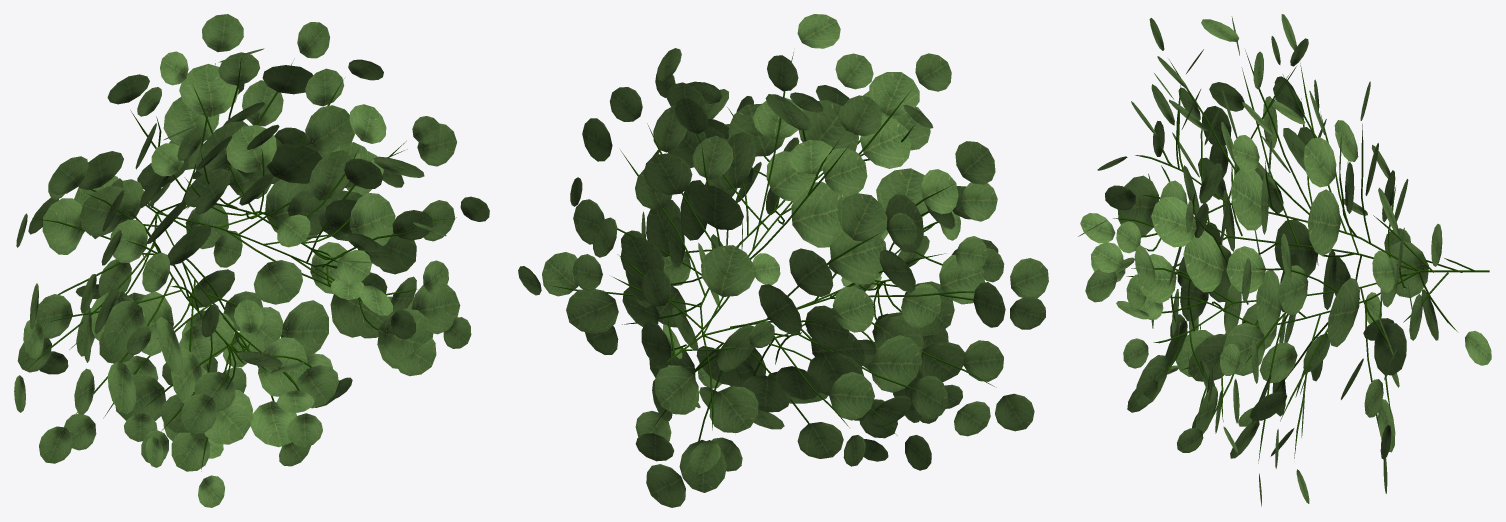
File: plant35.obj
The picture shows the model from 3 angles, left to right: view 1: azimuth 30°, elevation 25°; view 2: azimuth 150°, elevation 25°; view 3: azimuth 270°, elevation 25°; orthographic projection.
Parts seen in each view (by area): view 1: leaves.001, tree.001; view 2: leaves.001, tree.001; view 3: leaves.001, tree.001.
Part boxes in pixels (x1,y1,x2,y2): leaves.001: (14,14,489,507); tree.001: (25,58,456,471); leaves.001: (518,14,1048,507); tree.001: (547,52,996,441); leaves.001: (1078,14,1491,506); tree.001: (1113,50,1489,463).
Size of the model in its own units: 0.5863 by 0.5378 by 0.4502.
Materials: 2 (2 with a texture image).
